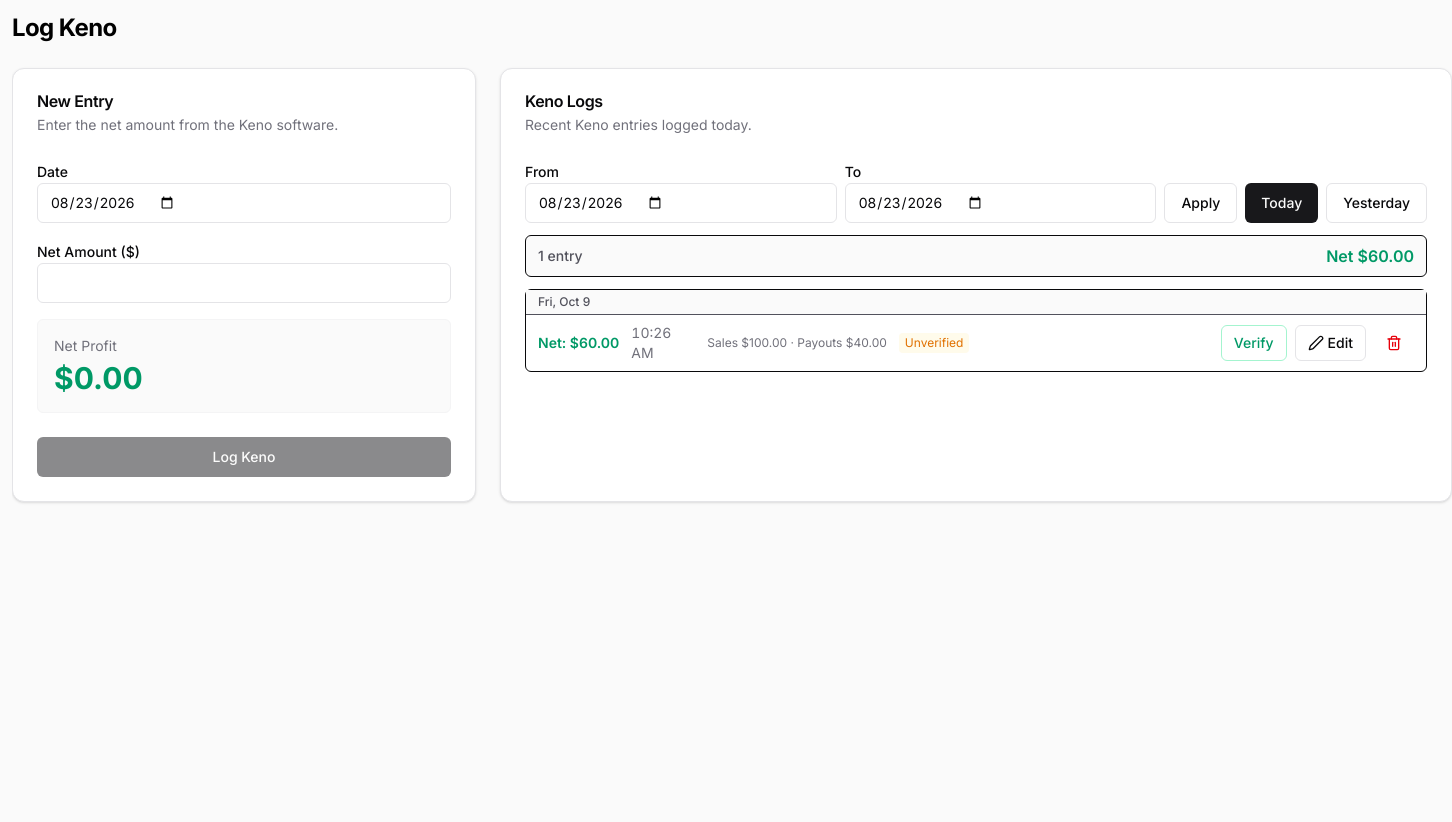
Test case: Keno › keeps an updated Keno entry visible when its persisted date remains in range
The image size is (1452, 822).
Check: the text "Net: $60.00" is shown, box 538,333 -> 619,353
Click the button "Edit" at {"x": 1330, "y": 343}, box 1295,325 -> 1366,361
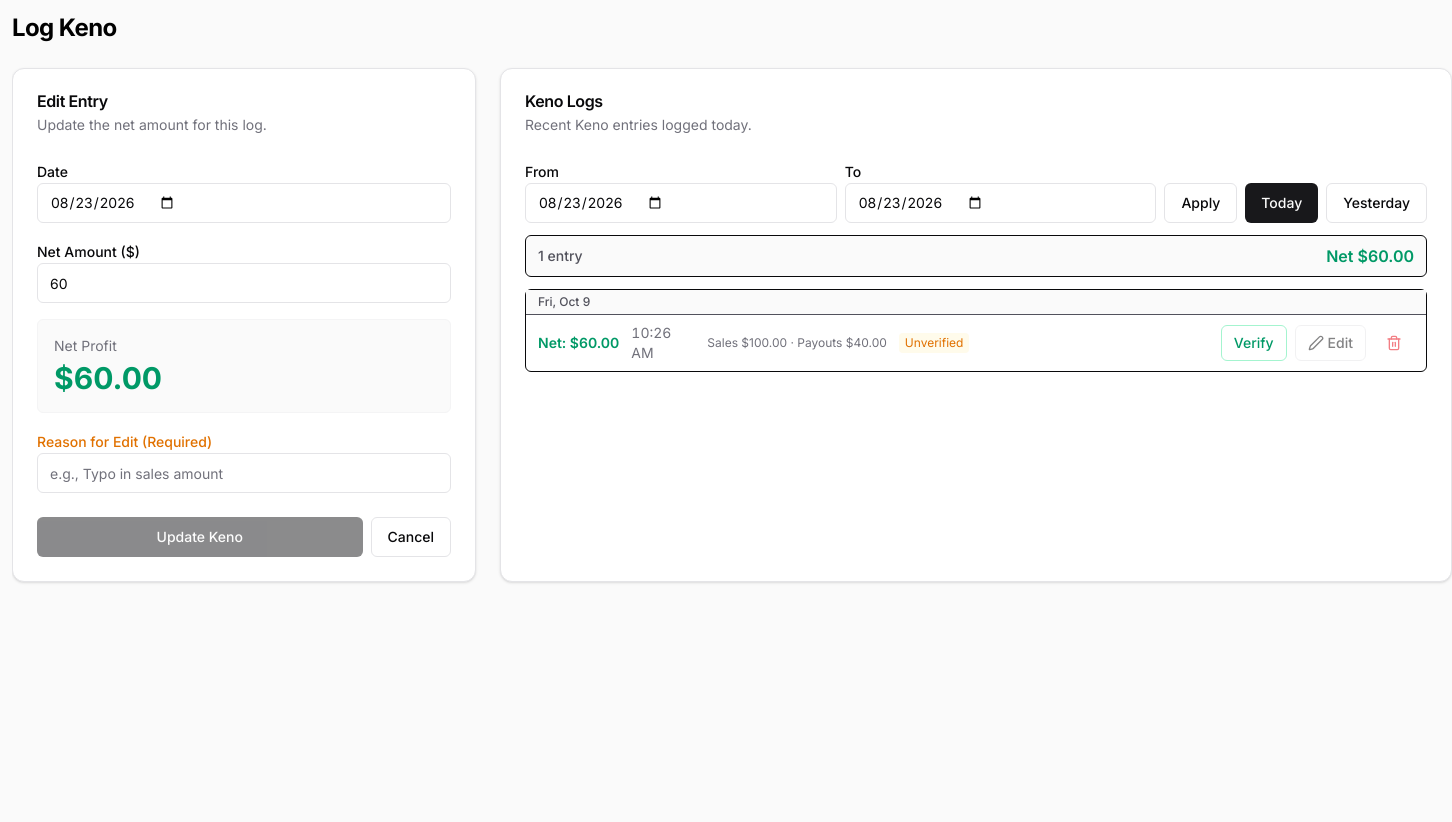
Type "Adjust net" into the field labelled "Reason for Edit (Required)" at {"x": 244, "y": 473}, box 37,453 -> 451,493
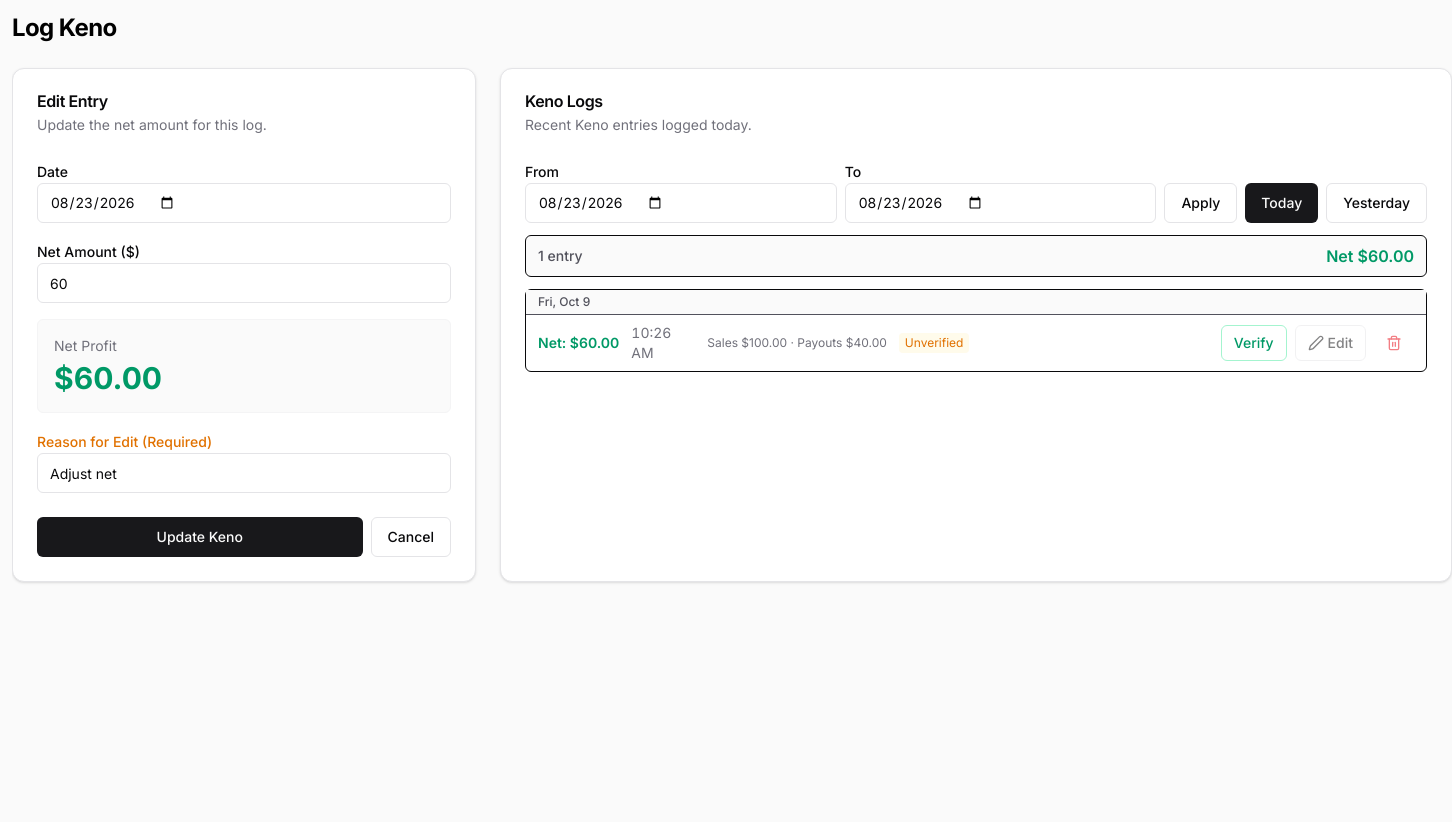
Replace the text in the number field labelled "Net Amount ($)" with "75" at {"x": 244, "y": 283}, box 37,263 -> 451,303
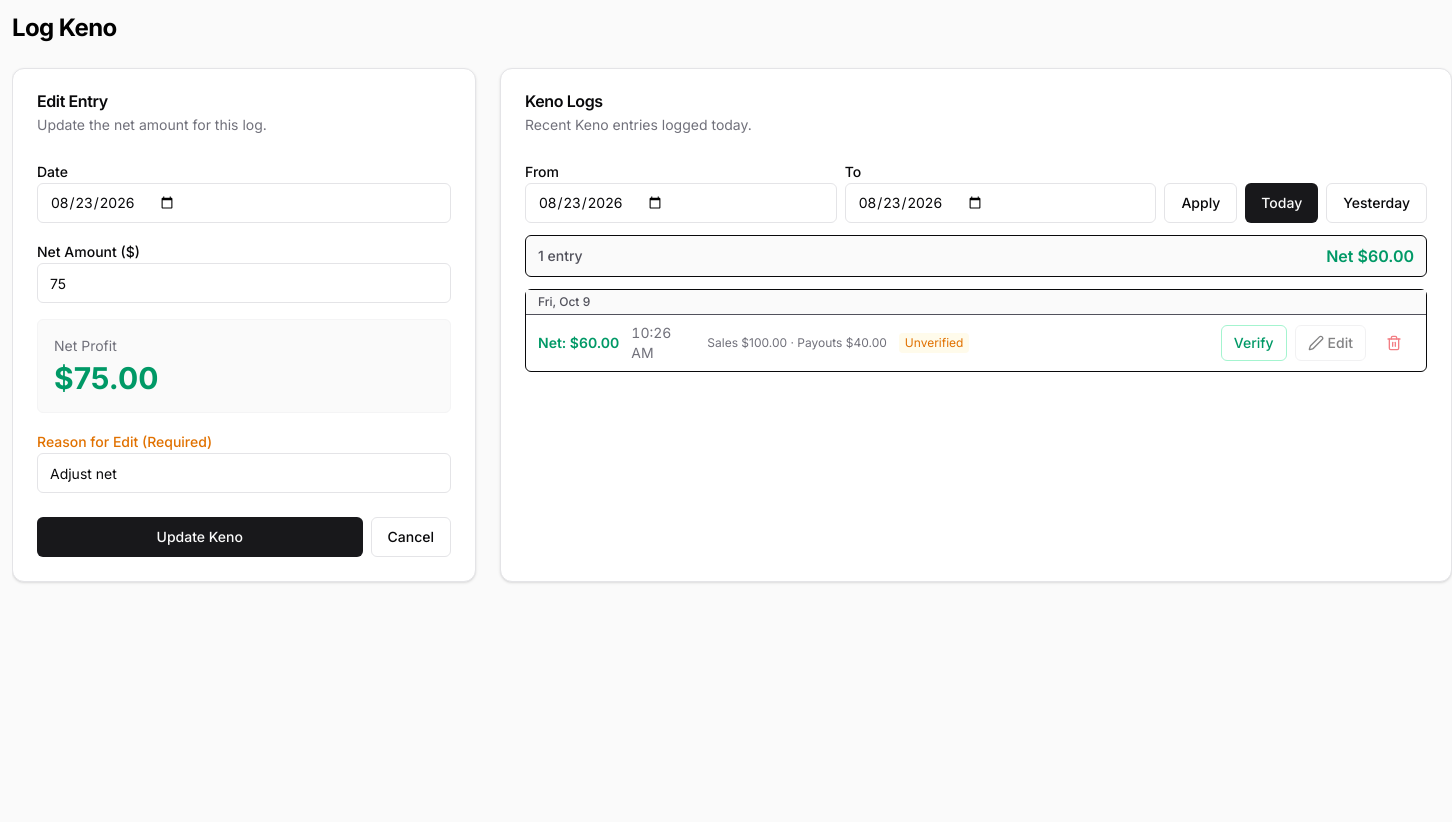
Submit the text "Update Keno", box 13,69 -> 475,581
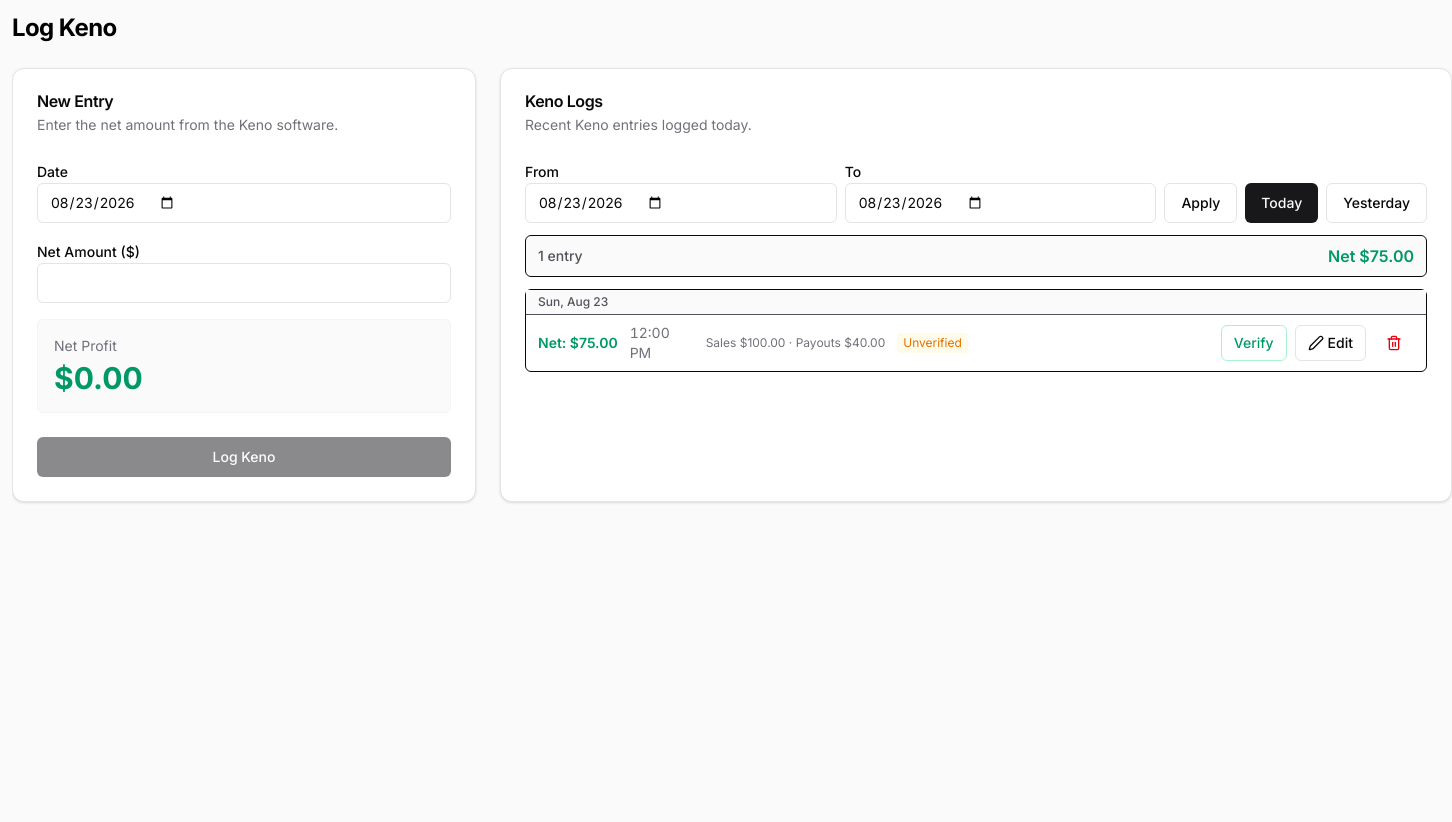
Check: the text "Net: $75.00" is shown, box 538,333 -> 618,353
